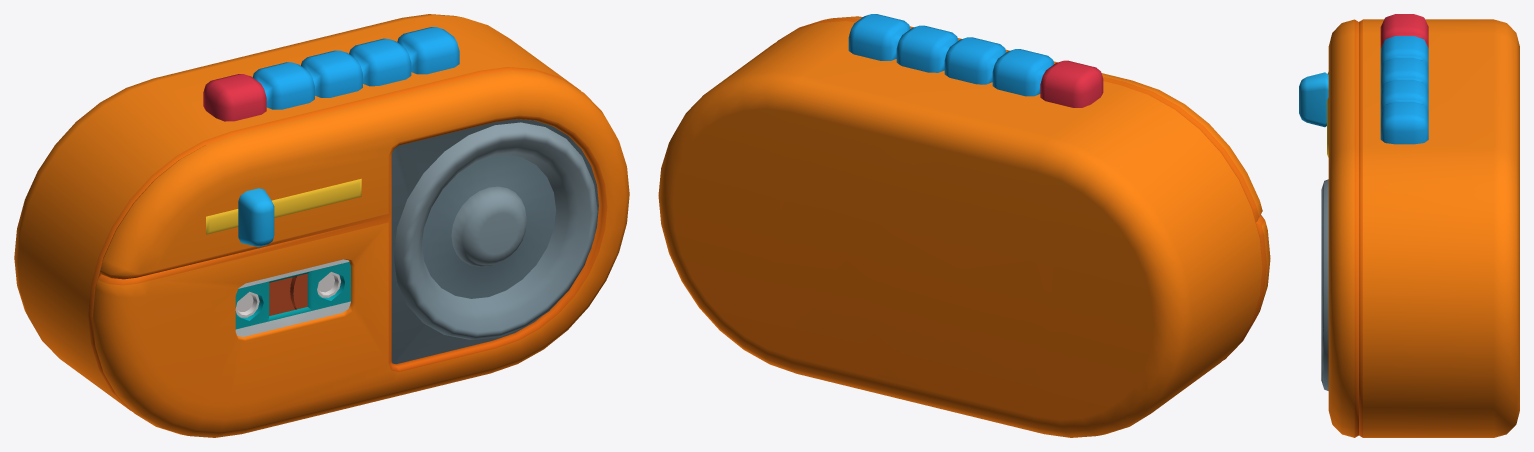
File: Audio_06.glb
The picture shows the model from 3 angles, left to right: view 1: azimuth 30°, elevation 25°; view 2: azimuth 150°, elevation 25°; view 3: azimuth 270°, elevation 25°; orthographic projection. The views are drawn at different scales.
Visible parts, largest first — view 1: Audio_06; view 2: Audio_06; view 3: Audio_06.
Part boxes in pixels (x1,y1,x2,y2): Audio_06: [14, 14, 629, 437]; Audio_06: [658, 14, 1270, 437]; Audio_06: [1299, 14, 1519, 437].
Bounding box in the file's own units: 0.3 × 0.1748 × 0.1155.
1 material, 1 textured.
